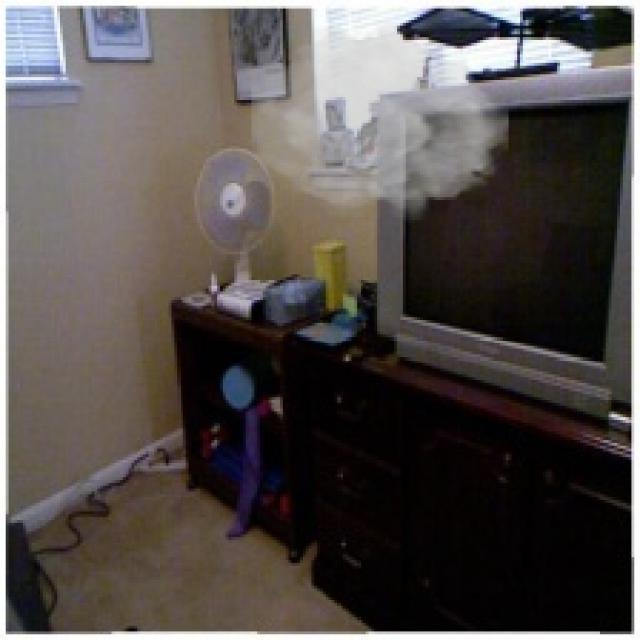Smoke: (252, 20, 508, 223)
